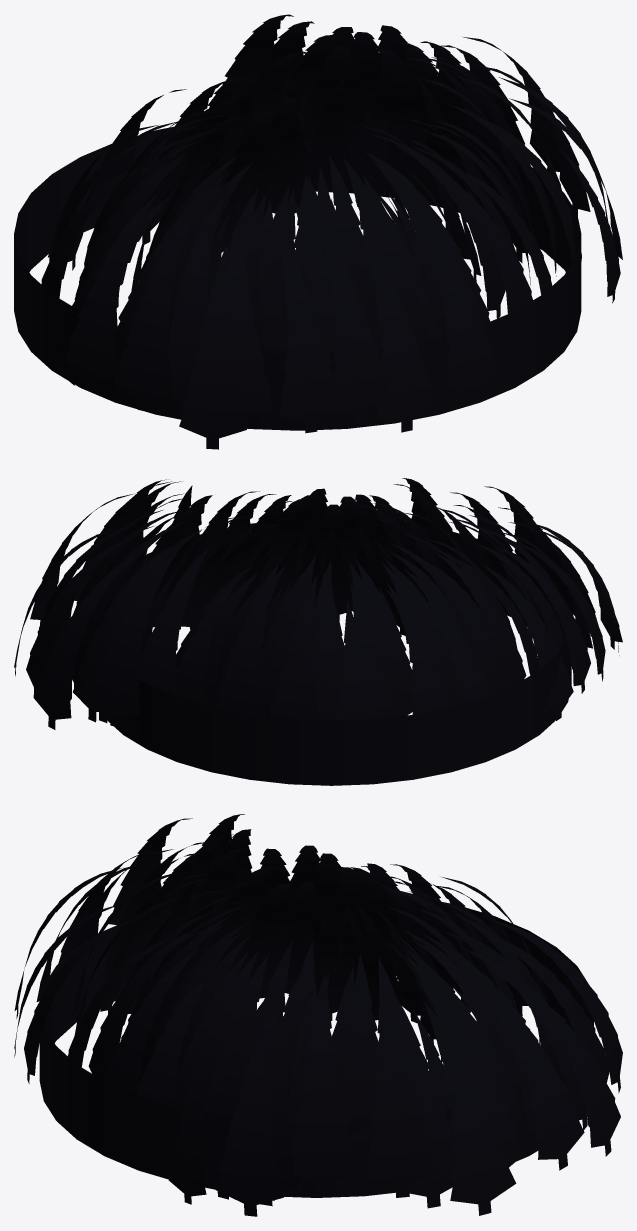
Rendered from Trees_Flat.fbx.
3 renders of one model, top to bottom at view 1: azimuth 30°, elevation 25°; view 2: azimuth 150°, elevation 25°; view 3: azimuth 270°, elevation 25°, orthographic. The views are drawn at different scales.
Parts seen in each view (by area): view 1: Plane_2, Plane_3, Plane_1, Cylinder, Plane; view 2: Plane, Cylinder, Plane_3, Plane_1, Plane_2; view 3: Plane_3, Plane_1, Plane, Cylinder, Plane_2.
Boxes of the visible parts, <box> form: Plane_2: <box>58,188,498,449</box>; Plane_3: <box>225,14,622,303</box>; Plane_1: <box>207,118,552,353</box>; Cylinder: <box>14,114,581,430</box>; Plane: <box>41,75,316,300</box>; Plane: <box>174,542,538,720</box>; Cylinder: <box>107,523,571,785</box>; Plane_3: <box>14,479,212,729</box>; Plane_1: <box>148,484,536,639</box>; Plane_2: <box>402,478,622,720</box>; Plane_3: <box>168,920,622,1216</box>; Plane_1: <box>68,874,316,1112</box>; Plane: <box>209,845,558,1065</box>; Cylinder: <box>39,896,593,1197</box>; Plane_2: <box>14,814,289,1083</box>.
Bounding box in the file's own units: 11070 × 3964 × 10417.
Materials: 1 (1 with a texture image).
